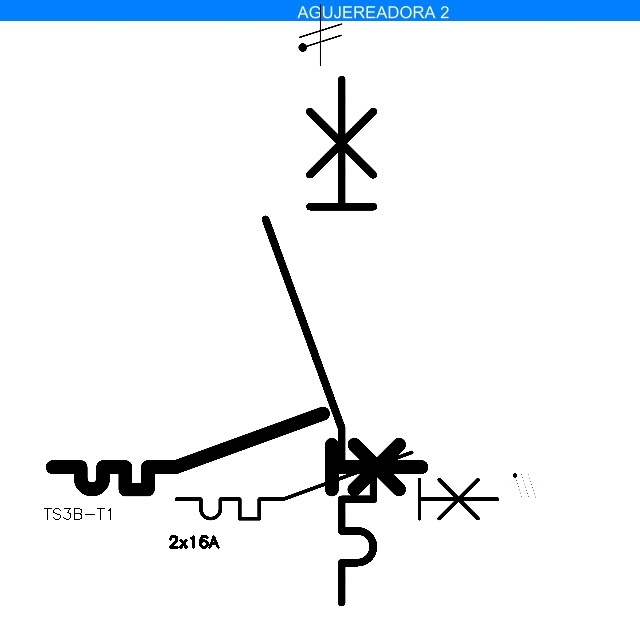interruptor_termomagnetico: (252, 66, 387, 616), (43, 404, 430, 499), (168, 444, 506, 527)
